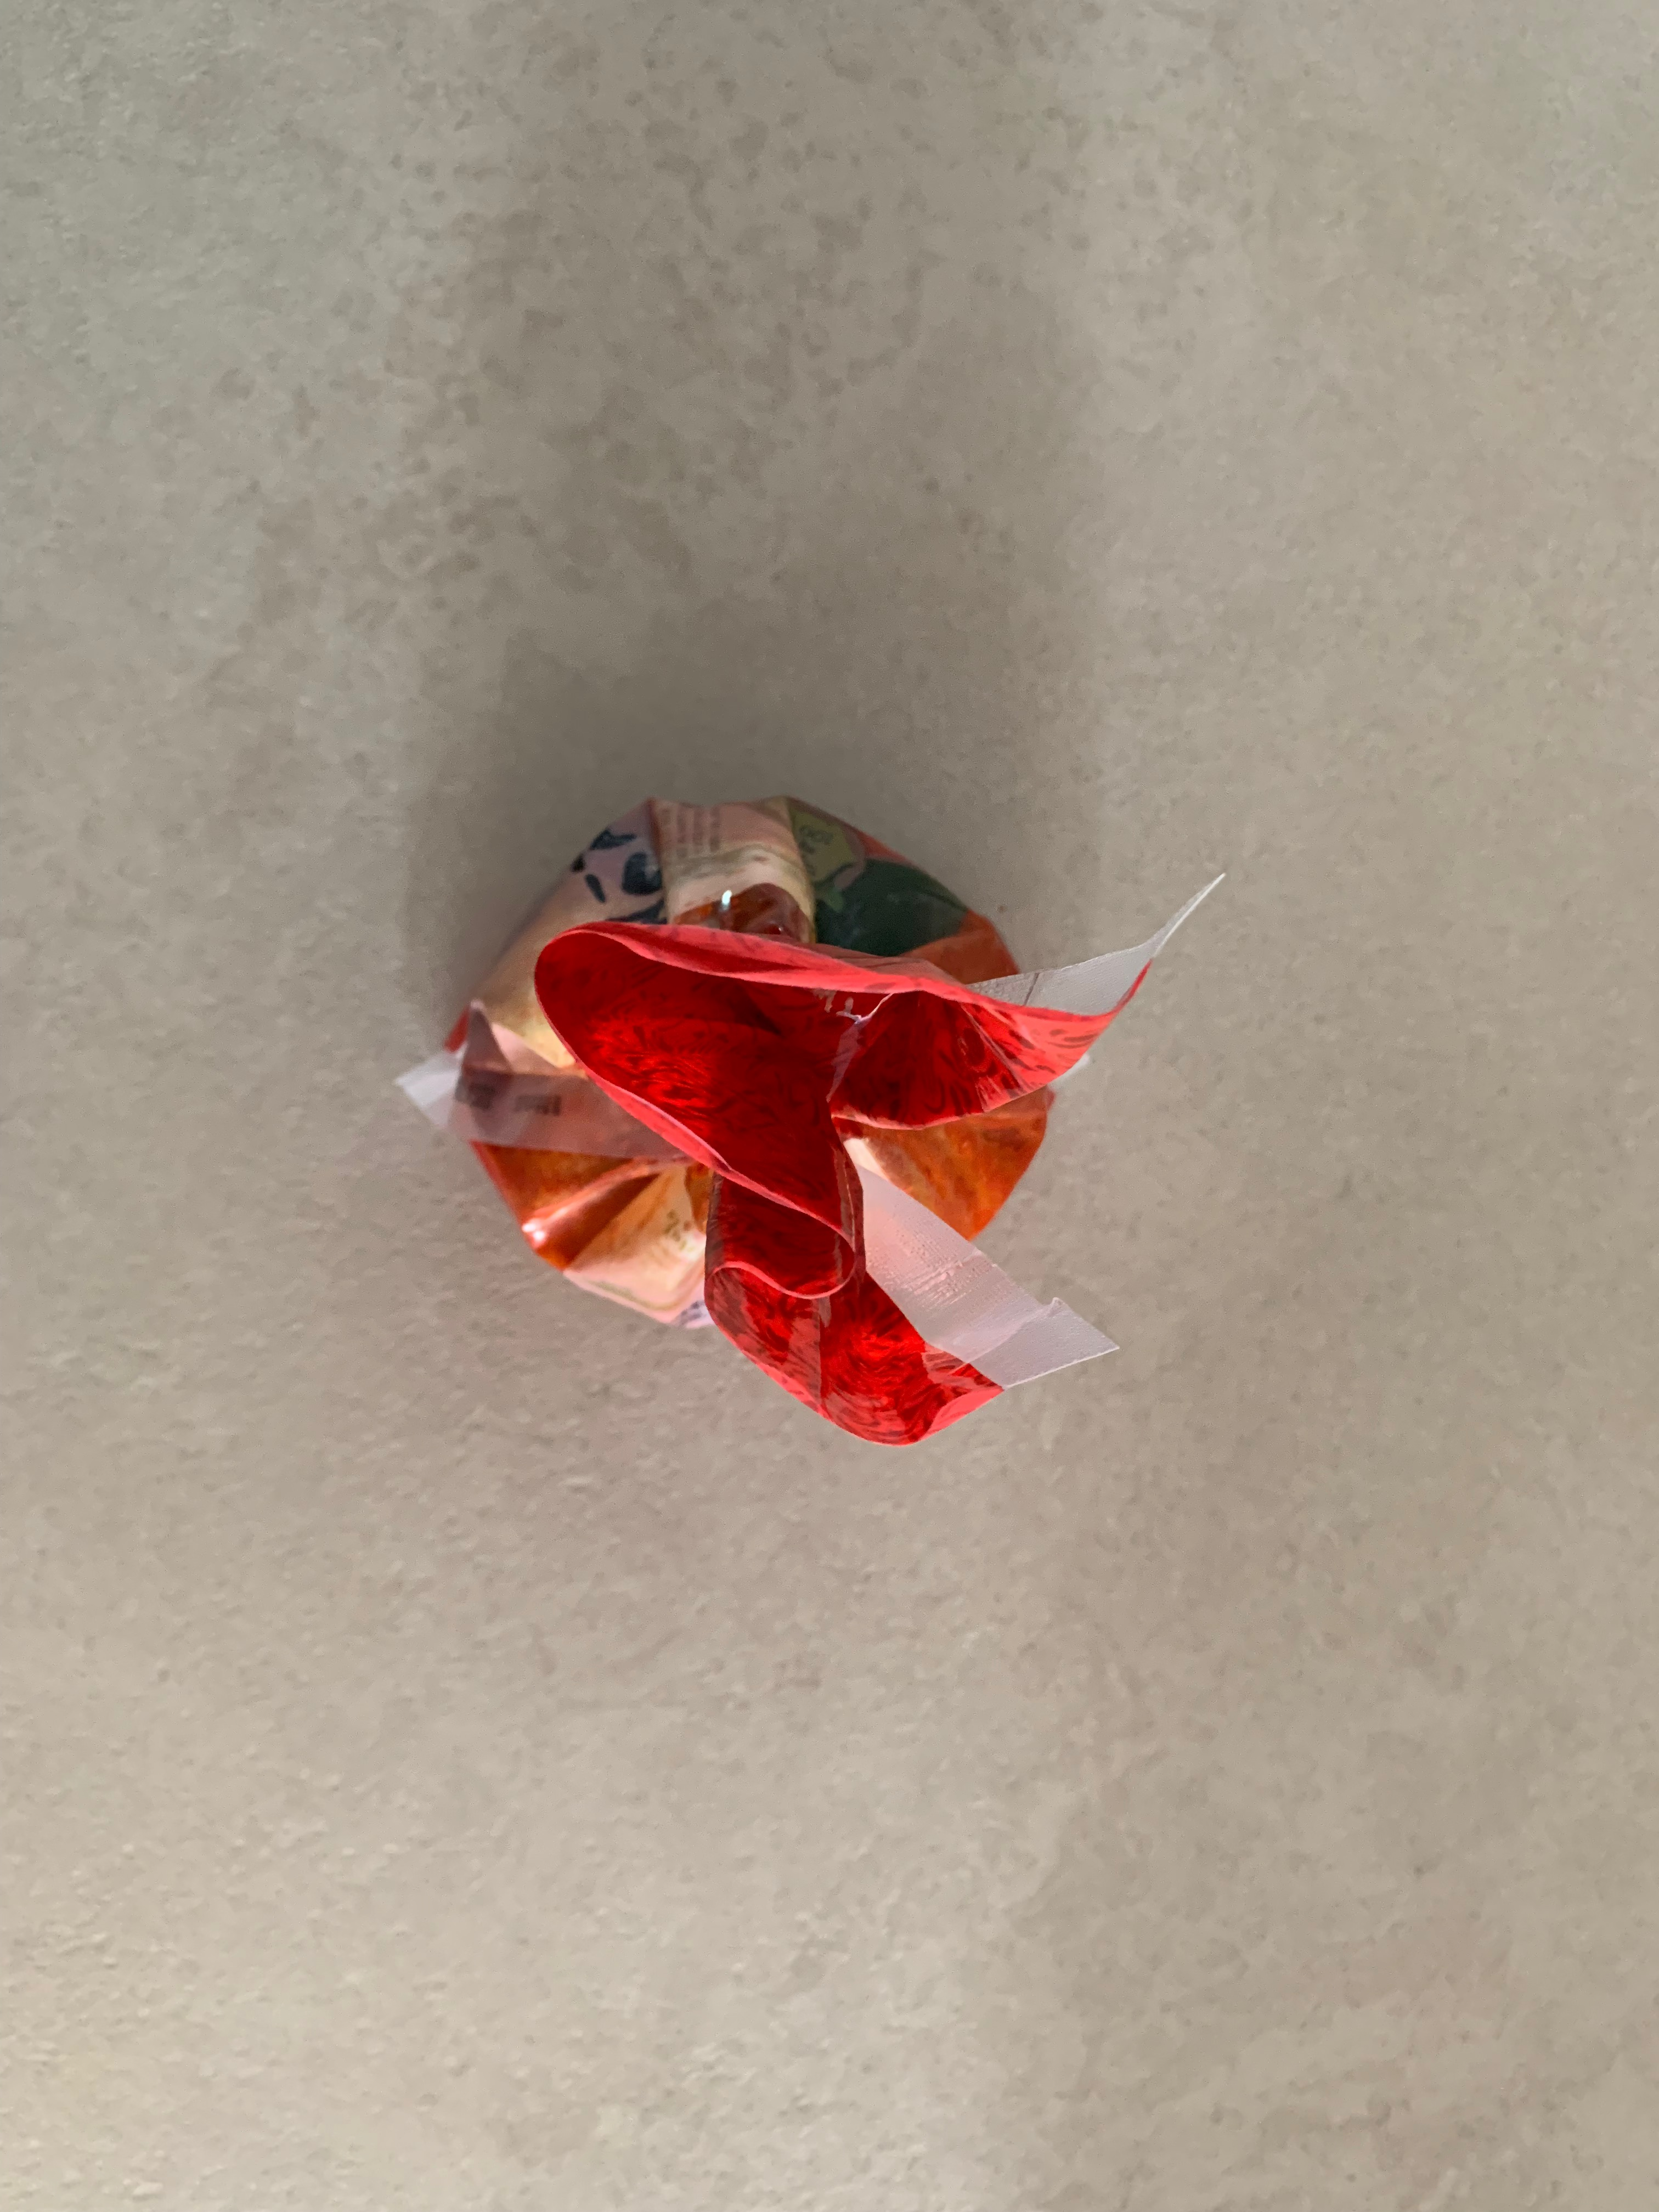kimchi: (448, 792, 1103, 1454)
